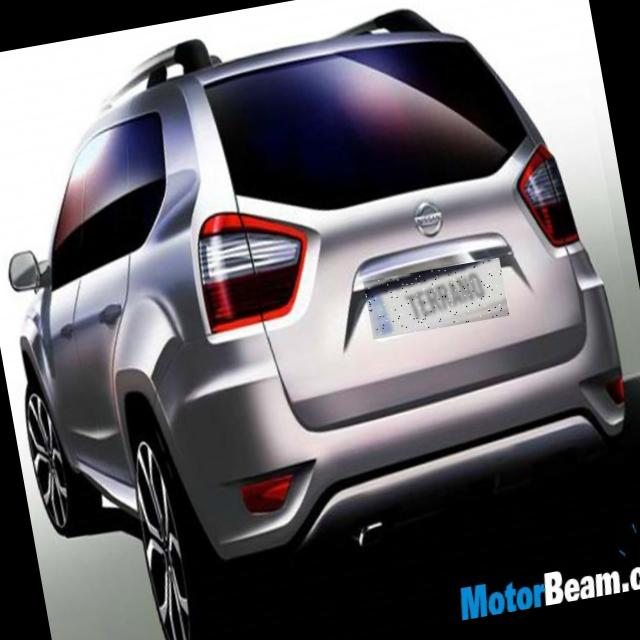Plate: (364, 258, 510, 340)
